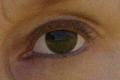eye: (46, 30, 78, 53)
